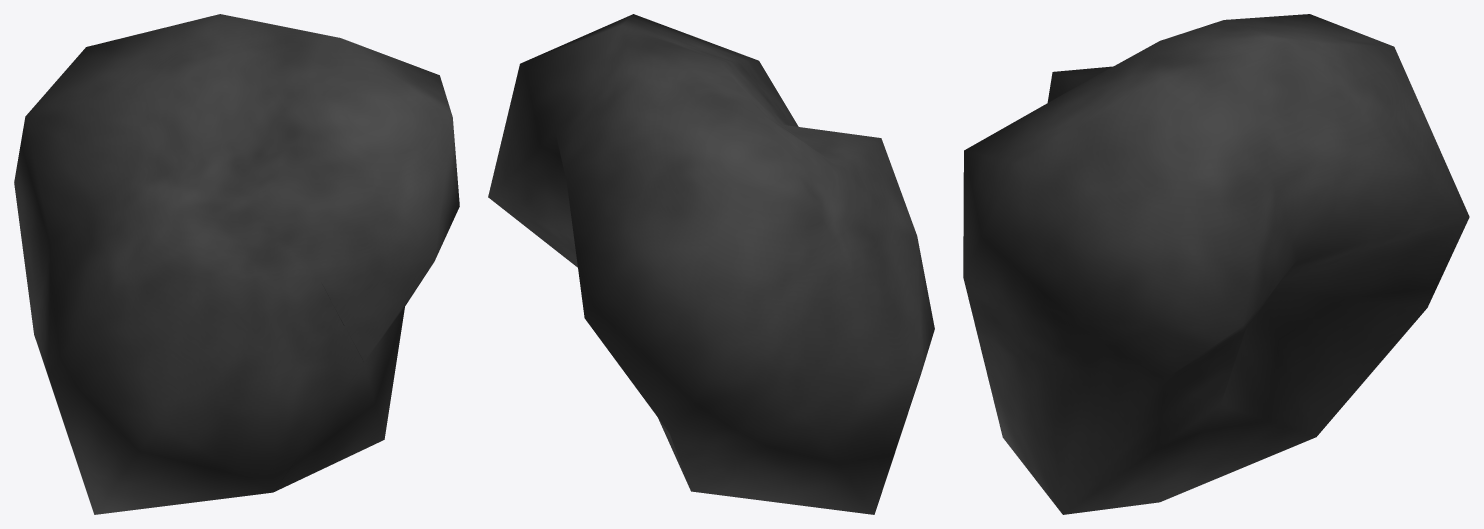
The model's file is RockBig2.fbx.
The picture shows the model from 3 angles, left to right: view 1: azimuth 30°, elevation 25°; view 2: azimuth 150°, elevation 25°; view 3: azimuth 270°, elevation 25°; orthographic projection. The views are drawn at different scales.
Visible parts, largest first — view 1: RockBig2; view 2: RockBig2; view 3: RockBig2.
Boxes of the visible parts, left/top/right/bottom form: RockBig2: left=14, top=14, right=459, bottom=514; RockBig2: left=488, top=14, right=934, bottom=514; RockBig2: left=963, top=14, right=1469, bottom=514.
Size of the model in its own units: 272 by 277 by 262.
1 material, 1 textured.
